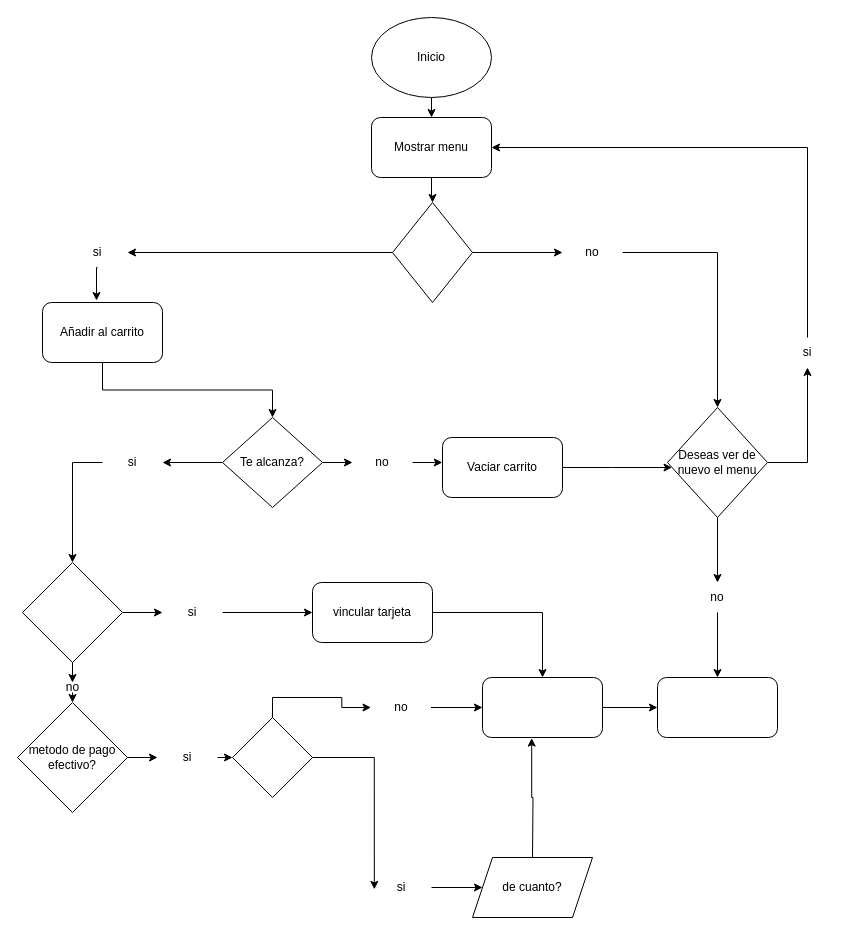
Some shapes in this 855 by 935 pixel diagram are drawn without their labels. Each missing label, with the centre of its shape:
FIN: (x=717, y=707)
metodo de pago tarjeta?: (x=72, y=612)
Necesitas devuelta?: (x=272, y=757)
pedir y pagar: (x=542, y=707)
Sabes que quieres comer?: (x=432, y=252)
